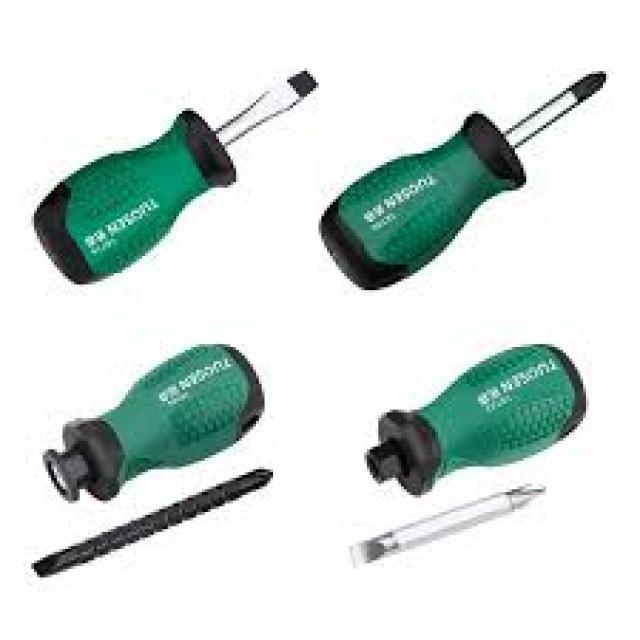screwdriver: (24, 42, 323, 294), (316, 70, 608, 300)
